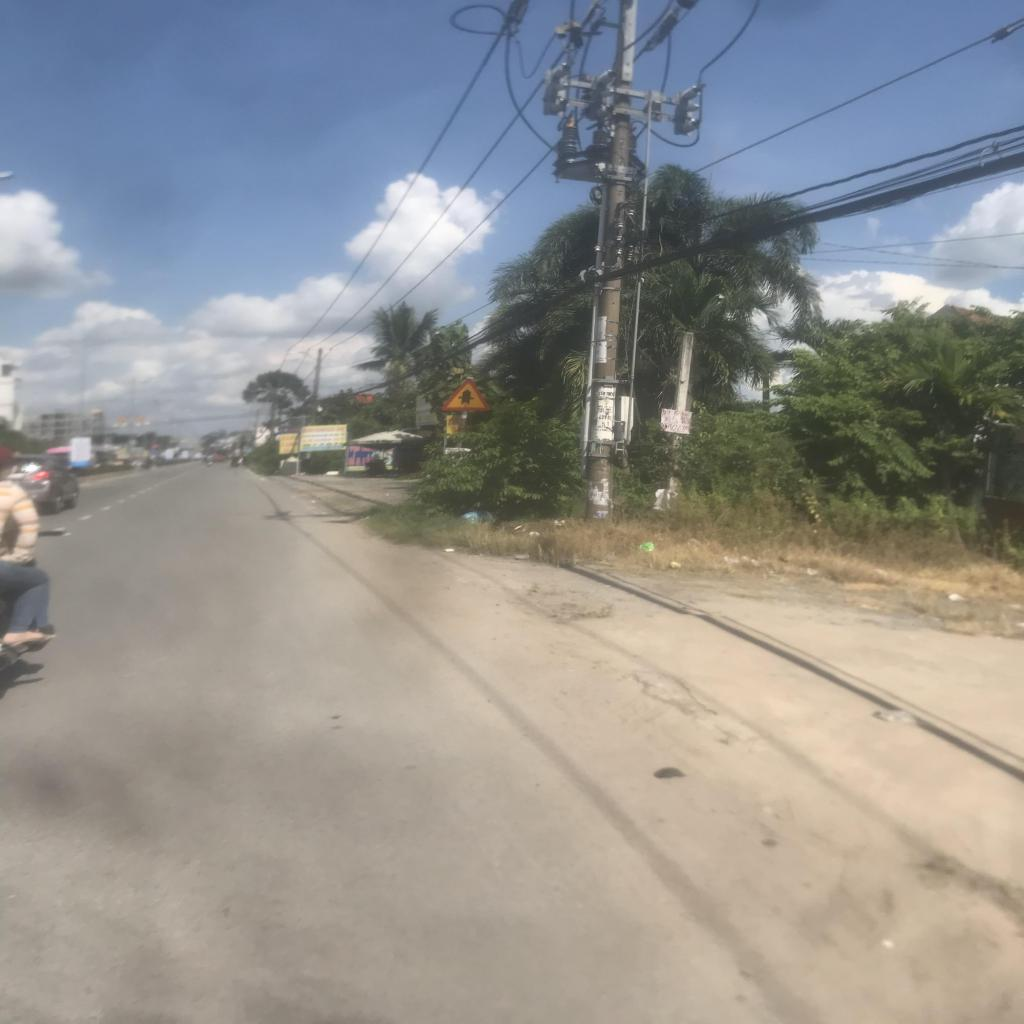giao_nhau_voi_duong_khong_uu_tien: (439, 377, 490, 410)
